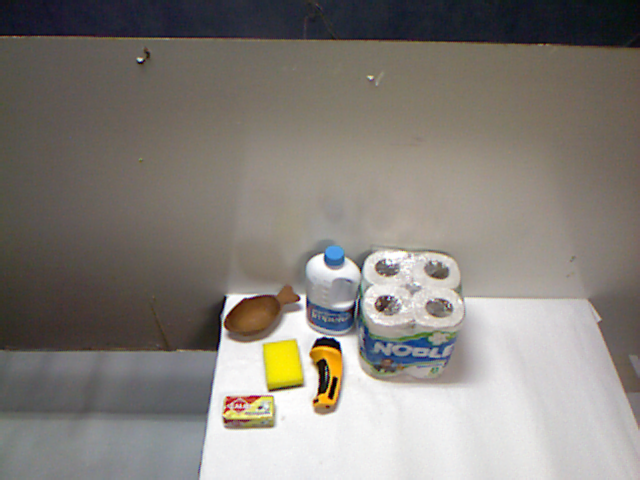coca: (277, 275, 314, 349)
crema: (322, 297, 363, 350)
esponja: (228, 301, 278, 354)
linterna: (220, 354, 295, 412)
mantequilla: (300, 357, 355, 393)
platoperro: (365, 316, 483, 422)
